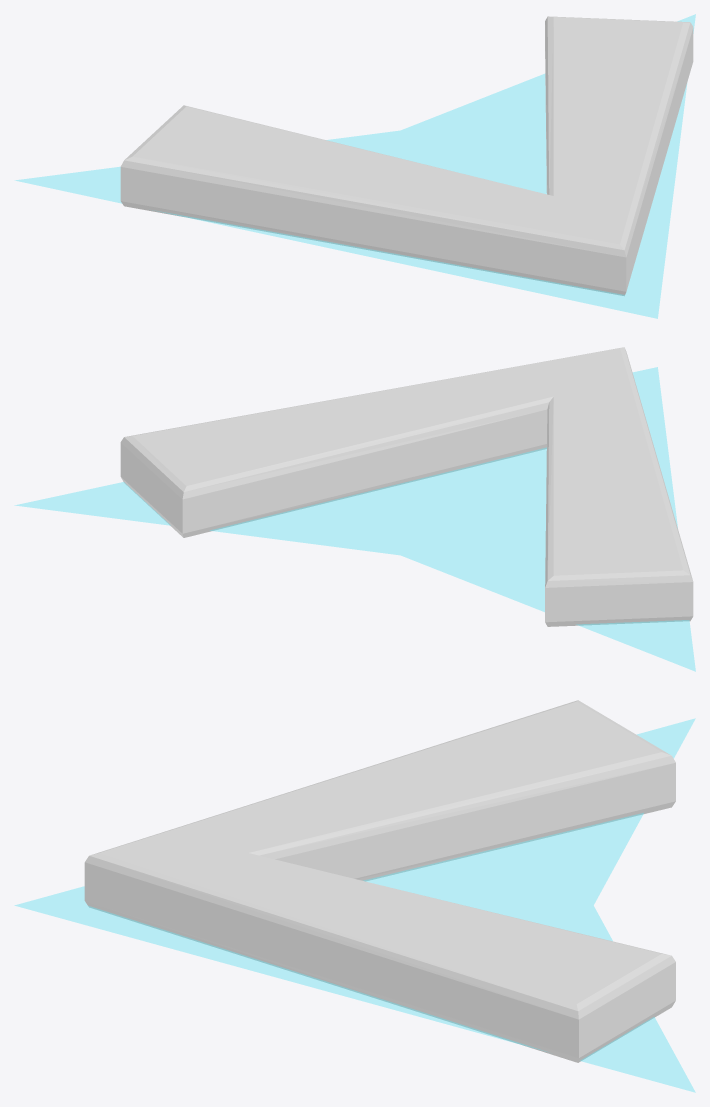
File: trail_chevron.glb
3 views of the same model, one above another, from view 1: azimuth 30°, elevation 25°; view 2: azimuth 150°, elevation 25°; view 3: azimuth 270°, elevation 25° (orthographic). The views are drawn at different scales.
Visible parts, largest first — view 1: Chevron; view 2: Chevron; view 3: Chevron.
Boxes of the visible parts, <box> form: Chevron: <box>15,14,695,318</box>; Chevron: <box>14,347,695,671</box>; Chevron: <box>14,700,695,1092</box>.
Bounding box in the file's own units: 0.52 × 0.037 × 0.4.
